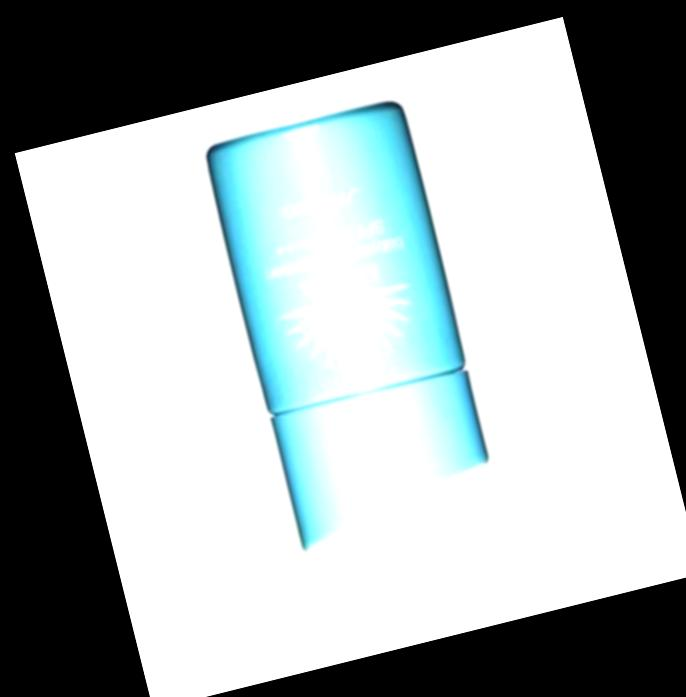cosmetic: (197, 96, 503, 557)
